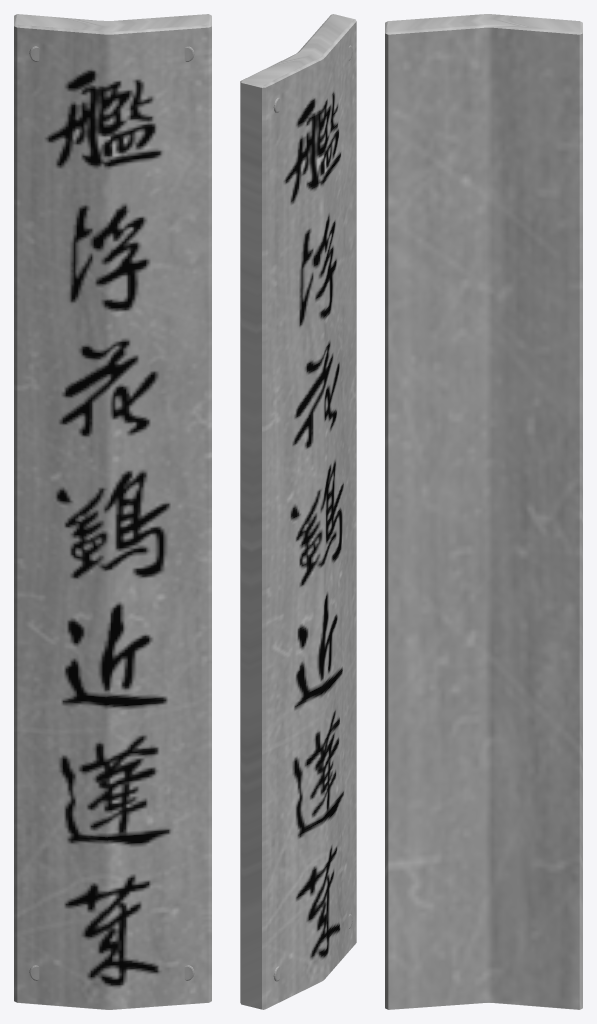
File: SM_Stela10B.fbx
3 renders of one model, left to right at view 1: azimuth 90°, elevation 25°; view 2: azimuth 150°, elevation 25°; view 3: azimuth 270°, elevation 25°, orthographic. The views are drawn at different scales.
Visible parts, largest first — view 1: SM_Stela10B; view 2: SM_Stela10B; view 3: SM_Stela10B.
Boxes of the visible parts, bbox=[...] form: SM_Stela10B: bbox=[14, 14, 211, 1009]; SM_Stela10B: bbox=[240, 14, 356, 1009]; SM_Stela10B: bbox=[385, 14, 582, 1009].
Size of the model in its own units: 3.3 by 13.51 by 73.67.
1 material, 1 textured.
